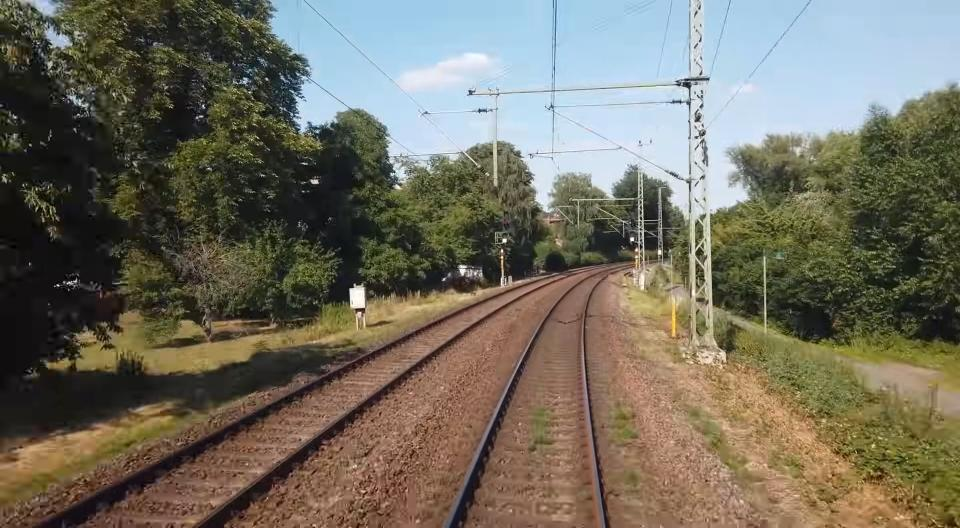Plant: (688, 407, 736, 469), (530, 406, 554, 452), (606, 402, 634, 441)
